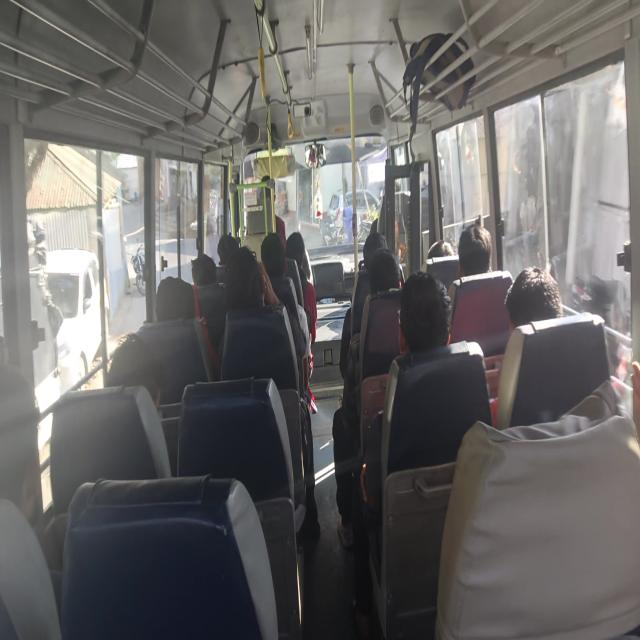person: (0, 370, 54, 544), (101, 320, 172, 420), (399, 271, 455, 368), (498, 261, 564, 330), (149, 272, 200, 318), (457, 223, 493, 285), (368, 243, 401, 296), (251, 172, 291, 215), (373, 174, 415, 214), (189, 243, 219, 288), (213, 218, 244, 259), (423, 237, 459, 259), (363, 233, 389, 258)
